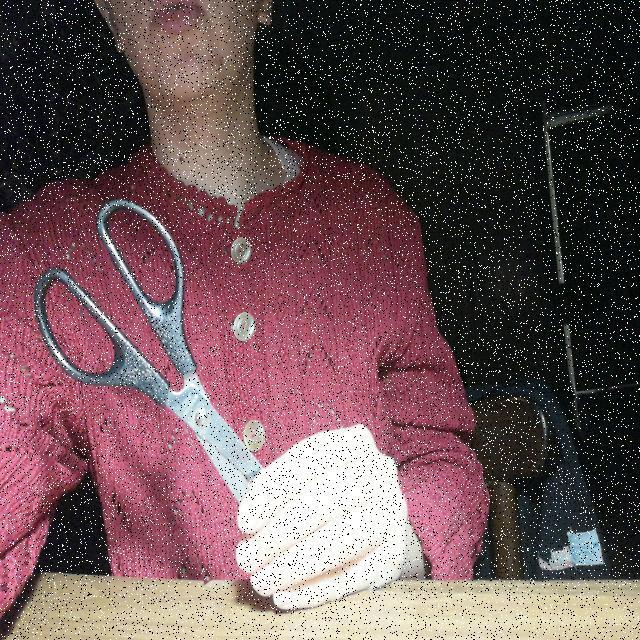scissors: (28, 187, 315, 578)
